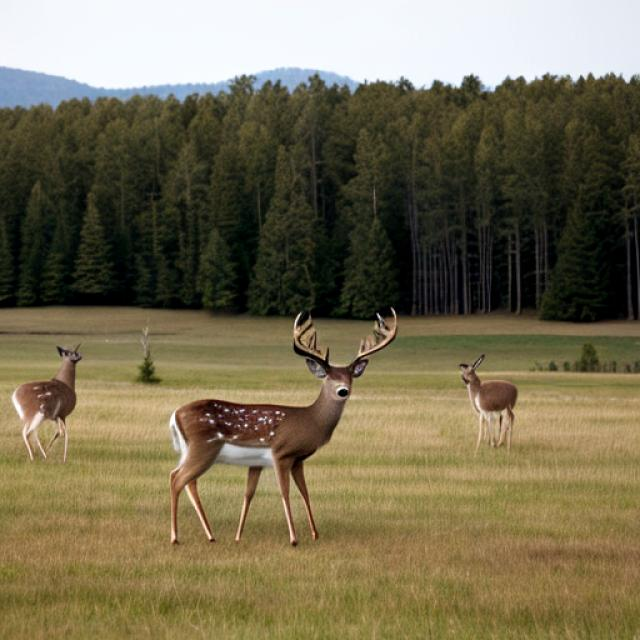deer: (126, 310, 409, 559), (440, 348, 537, 462), (14, 332, 84, 462)
